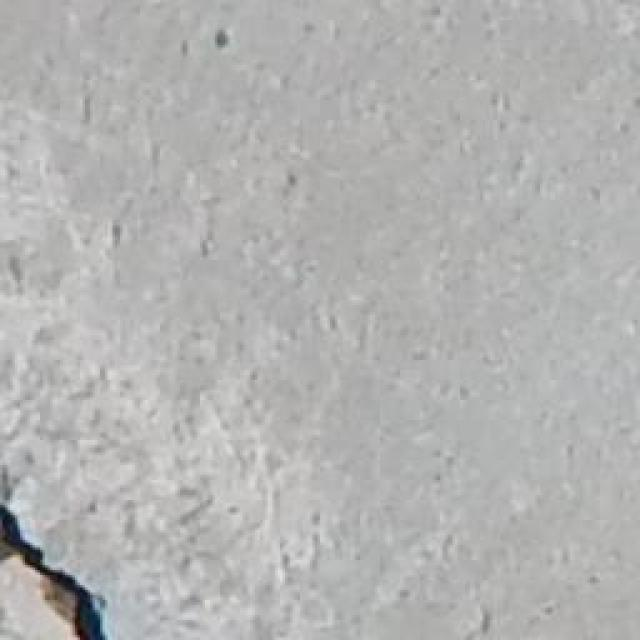concrete-crack: (0, 492, 113, 640)
